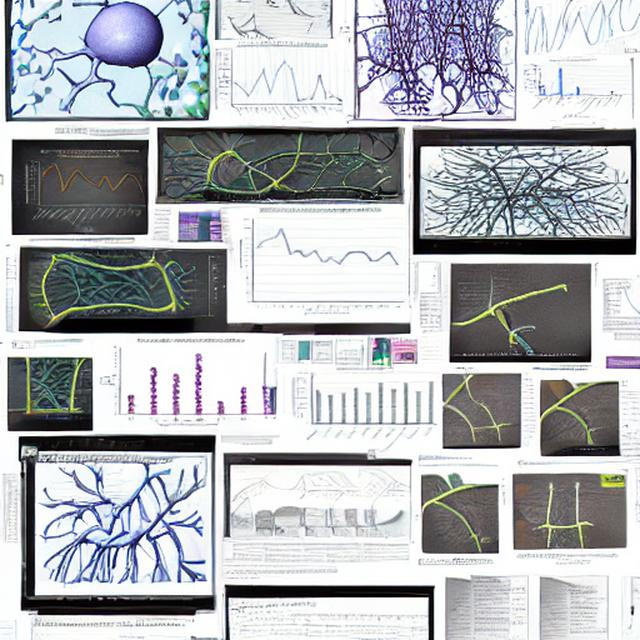Graph: (235, 206, 406, 320), (94, 335, 259, 432), (291, 365, 439, 452), (23, 147, 148, 235), (212, 42, 347, 120), (519, 55, 628, 120), (295, 469, 358, 506)
